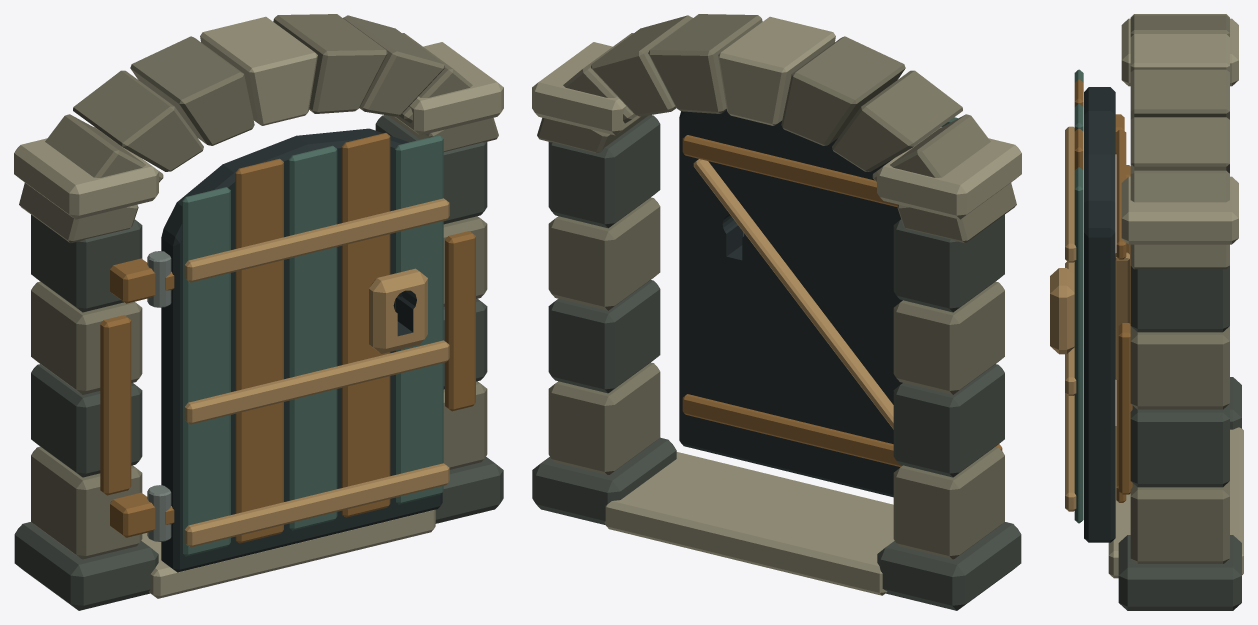
The model's file is KEYED_GATE.lo.glb.
The picture shows the model from 3 angles, left to right: view 1: azimuth 30°, elevation 25°; view 2: azimuth 150°, elevation 25°; view 3: azimuth 270°, elevation 25°; orthographic projection. The views are drawn at different scales.
Visible parts, largest first — view 1: Body_Mesh, DoorPivot_Mesh; view 2: Body_Mesh, DoorPivot_Mesh; view 3: Body_Mesh, DoorPivot_Mesh.
Part boxes in pixels (x1,y1,x2,y2): Body_Mesh: [14, 14, 503, 610]; DoorPivot_Mesh: [161, 128, 449, 572]; Body_Mesh: [532, 14, 1021, 610]; DoorPivot_Mesh: [679, 110, 958, 497]; Body_Mesh: [1108, 14, 1243, 610]; DoorPivot_Mesh: [1050, 69, 1129, 542].
Size of the model in its own units: 2.37 by 2.59 by 0.975.
